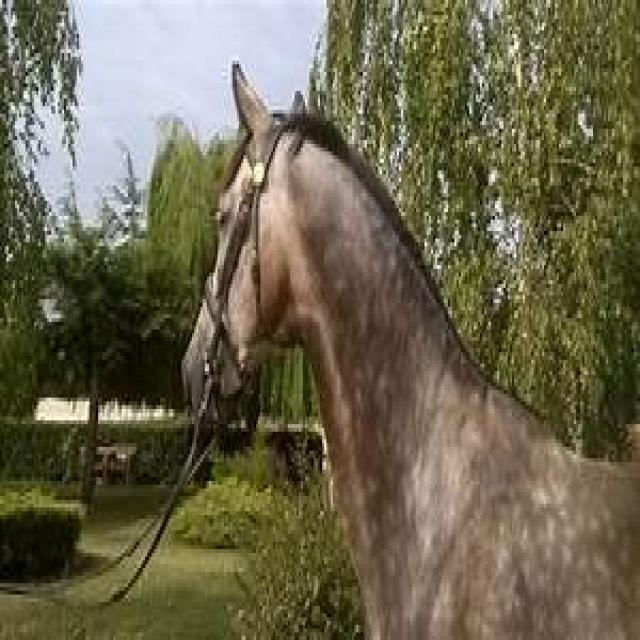horse: (179, 57, 638, 636)
